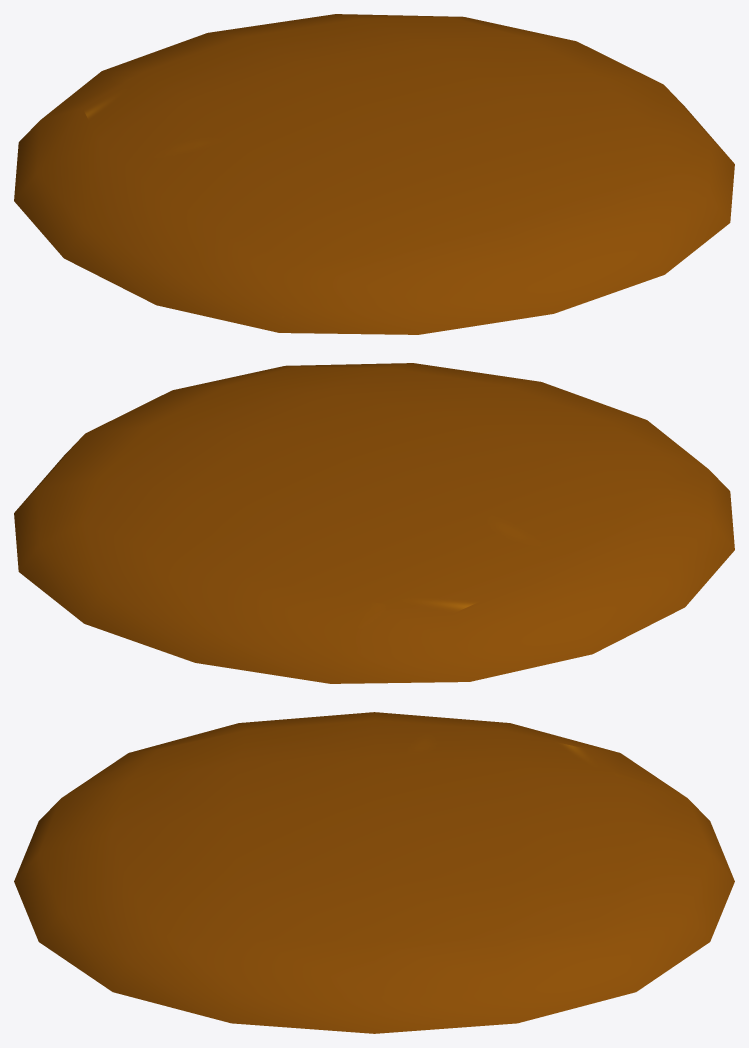
File: MuDColor1.fbx
The picture shows the model from 3 angles, top to bottom: view 1: azimuth 30°, elevation 25°; view 2: azimuth 150°, elevation 25°; view 3: azimuth 270°, elevation 25°; orthographic projection.
Parts seen in each view (by area): view 1: MuDColoR; view 2: MuDColoR; view 3: MuDColoR.
Boxes of the visible parts, x1,y1,x2,y2 form: MuDColoR: (14, 14, 734, 334); MuDColoR: (14, 363, 734, 683); MuDColoR: (14, 712, 734, 1033).
Size of the model in its own units: 789 by 83.95 by 789.
1 material, 1 textured.
